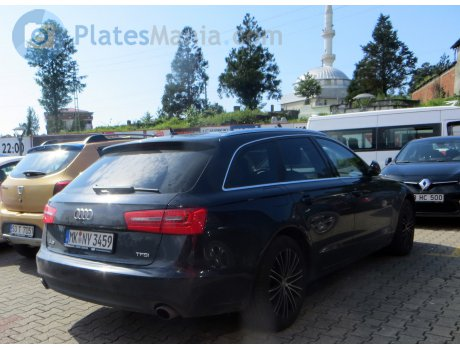License Plates: (66, 229, 112, 245)
